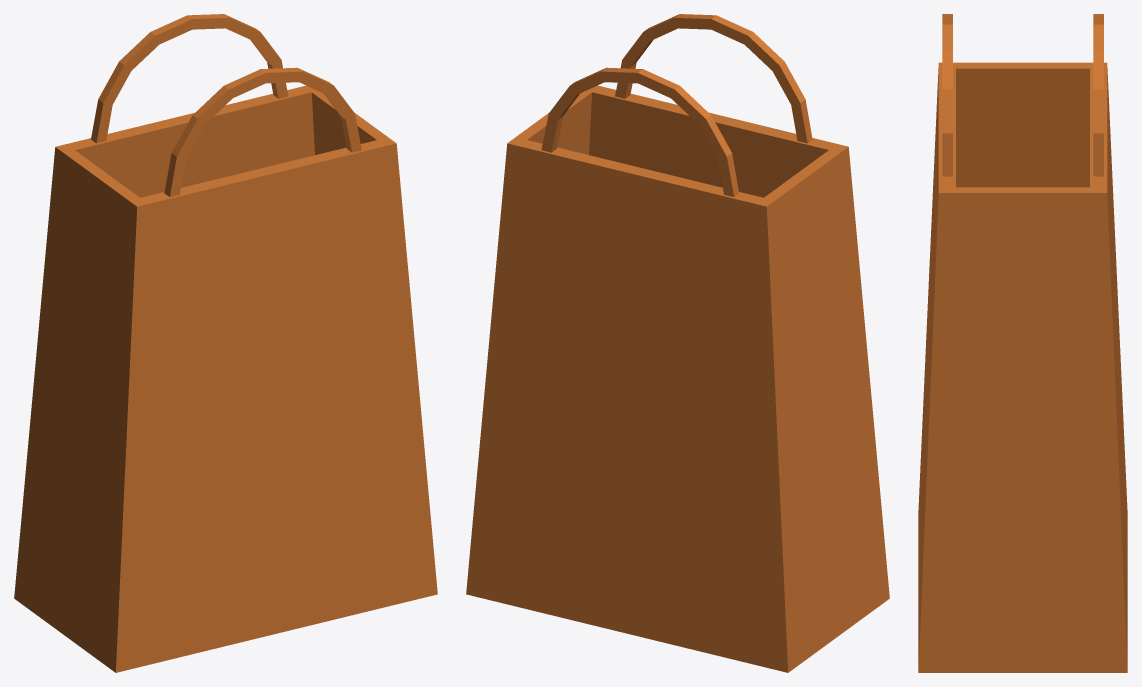
The model's file is bag.gltf.
3 renders of one model, left to right at view 1: azimuth 30°, elevation 25°; view 2: azimuth 150°, elevation 25°; view 3: azimuth 270°, elevation 25°, orthographic. The views are drawn at different scales.
Parts seen in each view (by area): view 1: Cube.025; view 2: Cube.025; view 3: Cube.025.
Boxes of the visible parts, x1=… form: Cube.025: x1=14, y1=14, x2=437, y2=672; Cube.025: x1=466, y1=14, x2=889, y2=672; Cube.025: x1=918, y1=14, x2=1127, y2=672.
Size of the model in its own units: 0.8714 by 1.43 by 0.4765.
